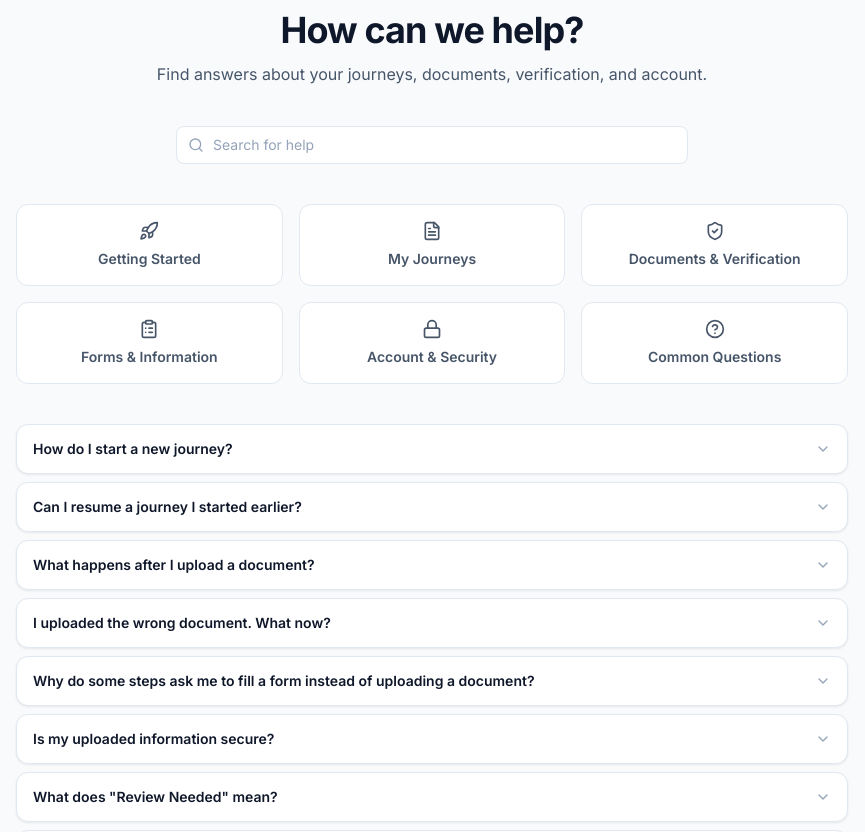
Test: HelpScreen › shows a "no results" message when search matches nothing
The width and height of the screenshot is (865, 832).
In the search field with placeholder "Search for help": (432, 145) left=176, top=126, right=688, bottom=164, type "zzzznomatch"
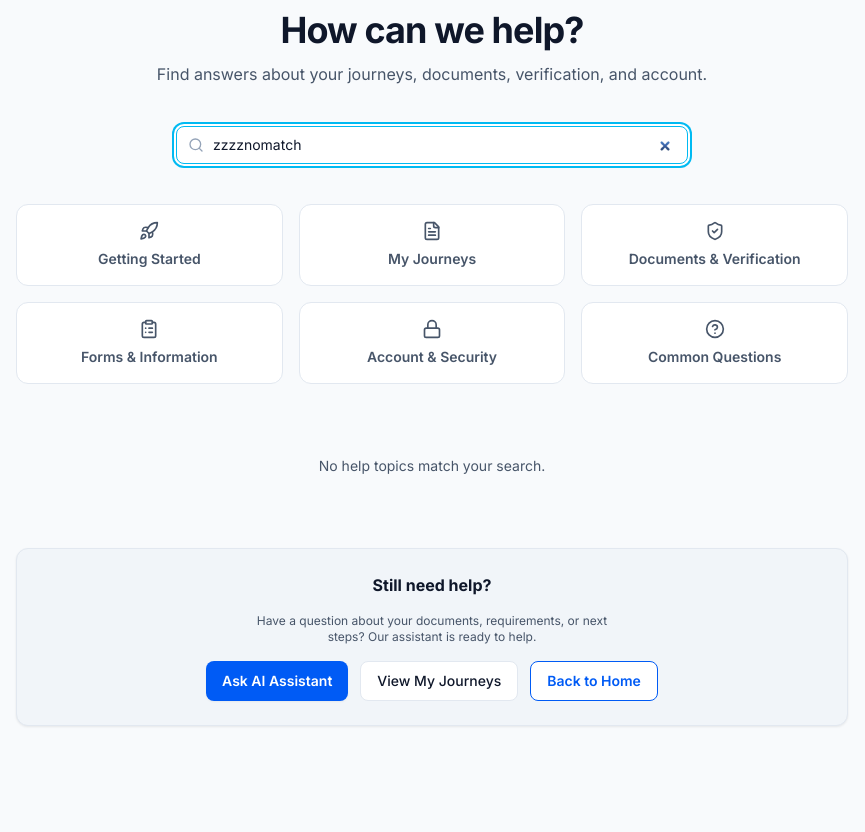
Now the text "No help topics match your search." is shown, box left=319, top=457, right=545, bottom=474
